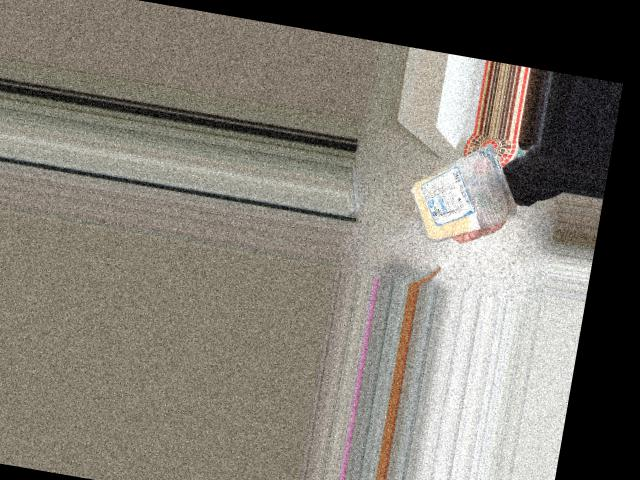cheese: (400, 140, 516, 245)
